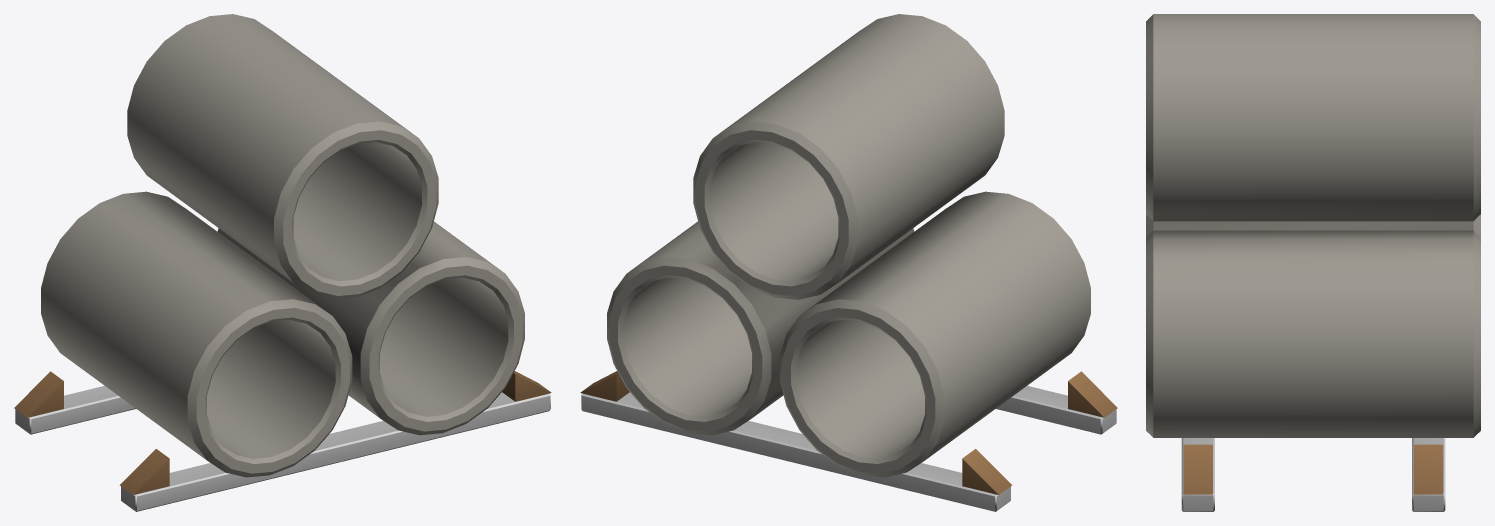
File: PipeStack.fbx
The picture shows the model from 3 angles, left to right: view 1: azimuth 30°, elevation 25°; view 2: azimuth 150°, elevation 25°; view 3: azimuth 270°, elevation 25°; orthographic projection. The views are drawn at different scales.
Visible parts, largest first — view 1: PipeStack; view 2: PipeStack; view 3: PipeStack.
Boxes of the visible parts, x1,y1,x2,y2 form: PipeStack: (14, 14, 551, 511); PipeStack: (580, 14, 1117, 511); PipeStack: (1146, 14, 1480, 511).
Size of the model in its own units: 2.52 by 2 by 1.6.
